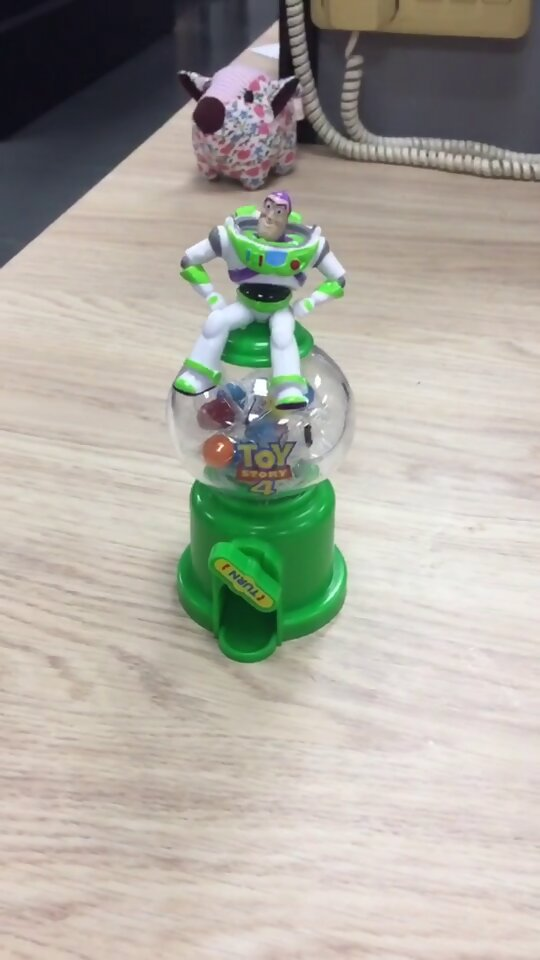buzz: (167, 184, 354, 666)
